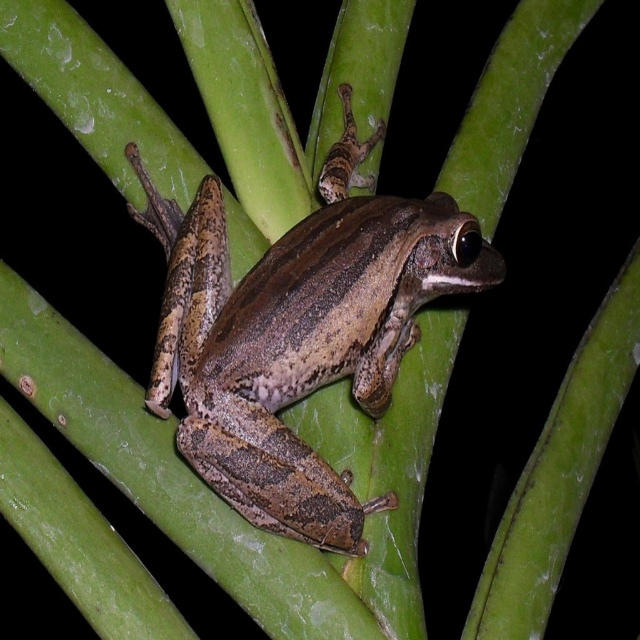Frog: (125, 83, 507, 557)
